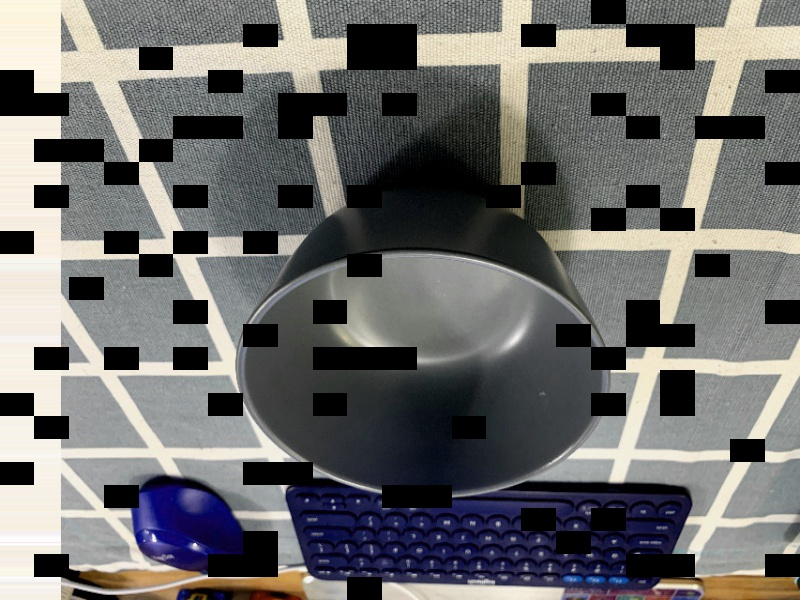bowl_big: (226, 179, 616, 502)
